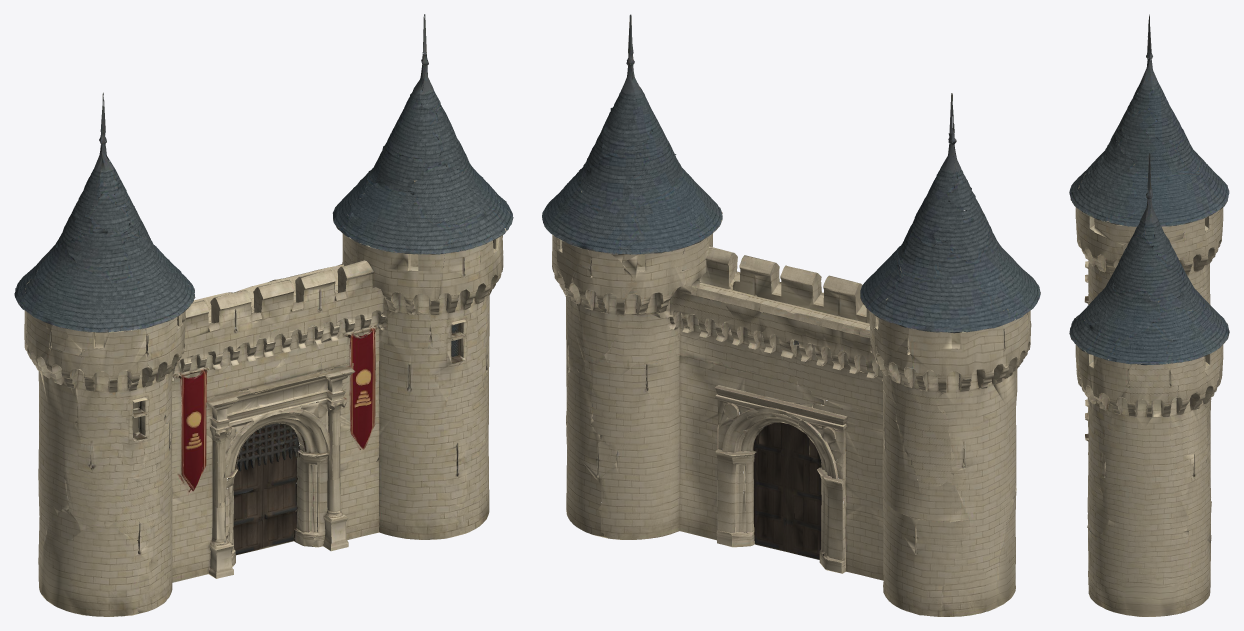
Rendered from porte.glb.
3 views of the same model, side by side, from view 1: azimuth 30°, elevation 25°; view 2: azimuth 150°, elevation 25°; view 3: azimuth 270°, elevation 25° (orthographic). The views are drawn at different scales.
Visible parts, largest first — view 1: porte; view 2: porte; view 3: porte.
Boxes of the visible parts, <box> form: porte: <box>14,14,513,616</box>; porte: <box>542,14,1040,616</box>; porte: <box>1069,14,1229,616</box>.
Size of the model in its own units: 16.91 by 17 by 5.6.
1 material, 1 textured.
